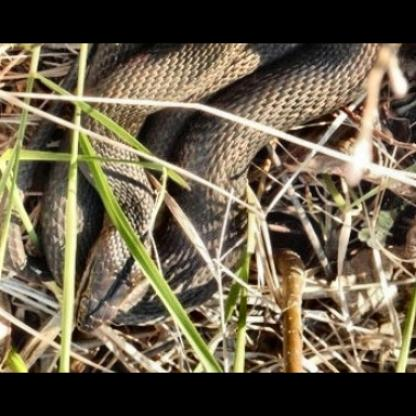Snake: (6, 77, 410, 365)
